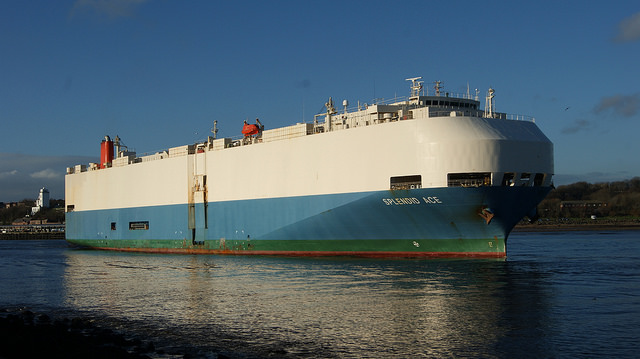PCC: (65, 80, 557, 261)
